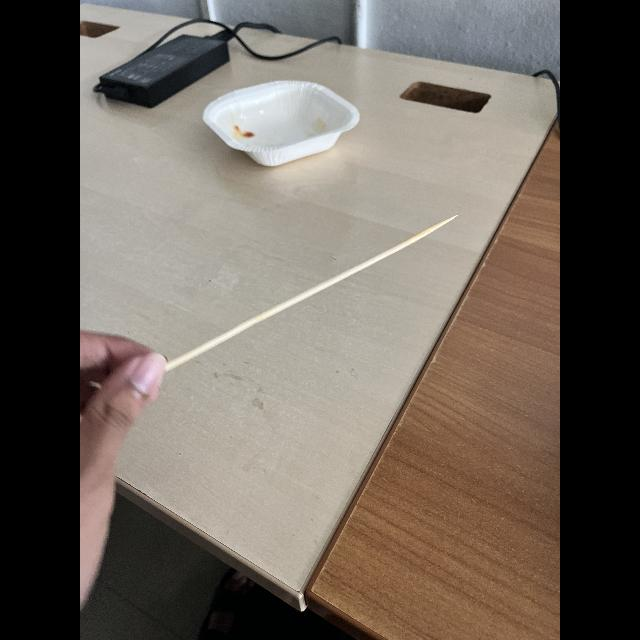cardboard_bowl: (199, 72, 359, 170)
stick: (169, 207, 465, 367)
